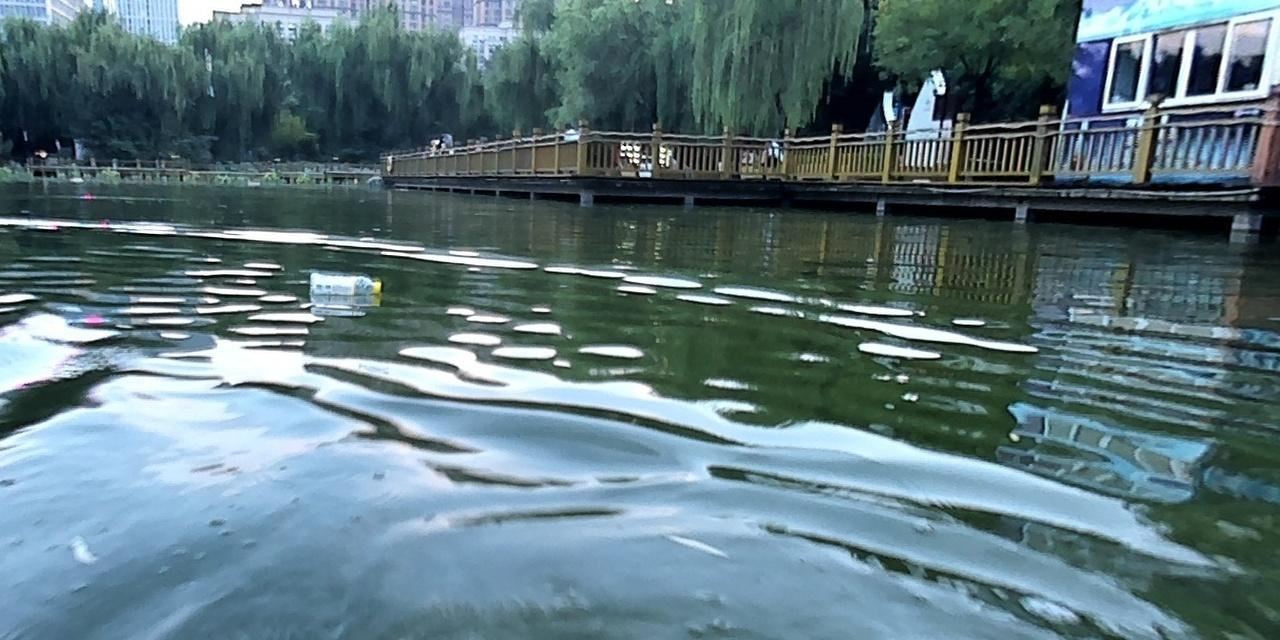bottle: (305, 270, 380, 298)
